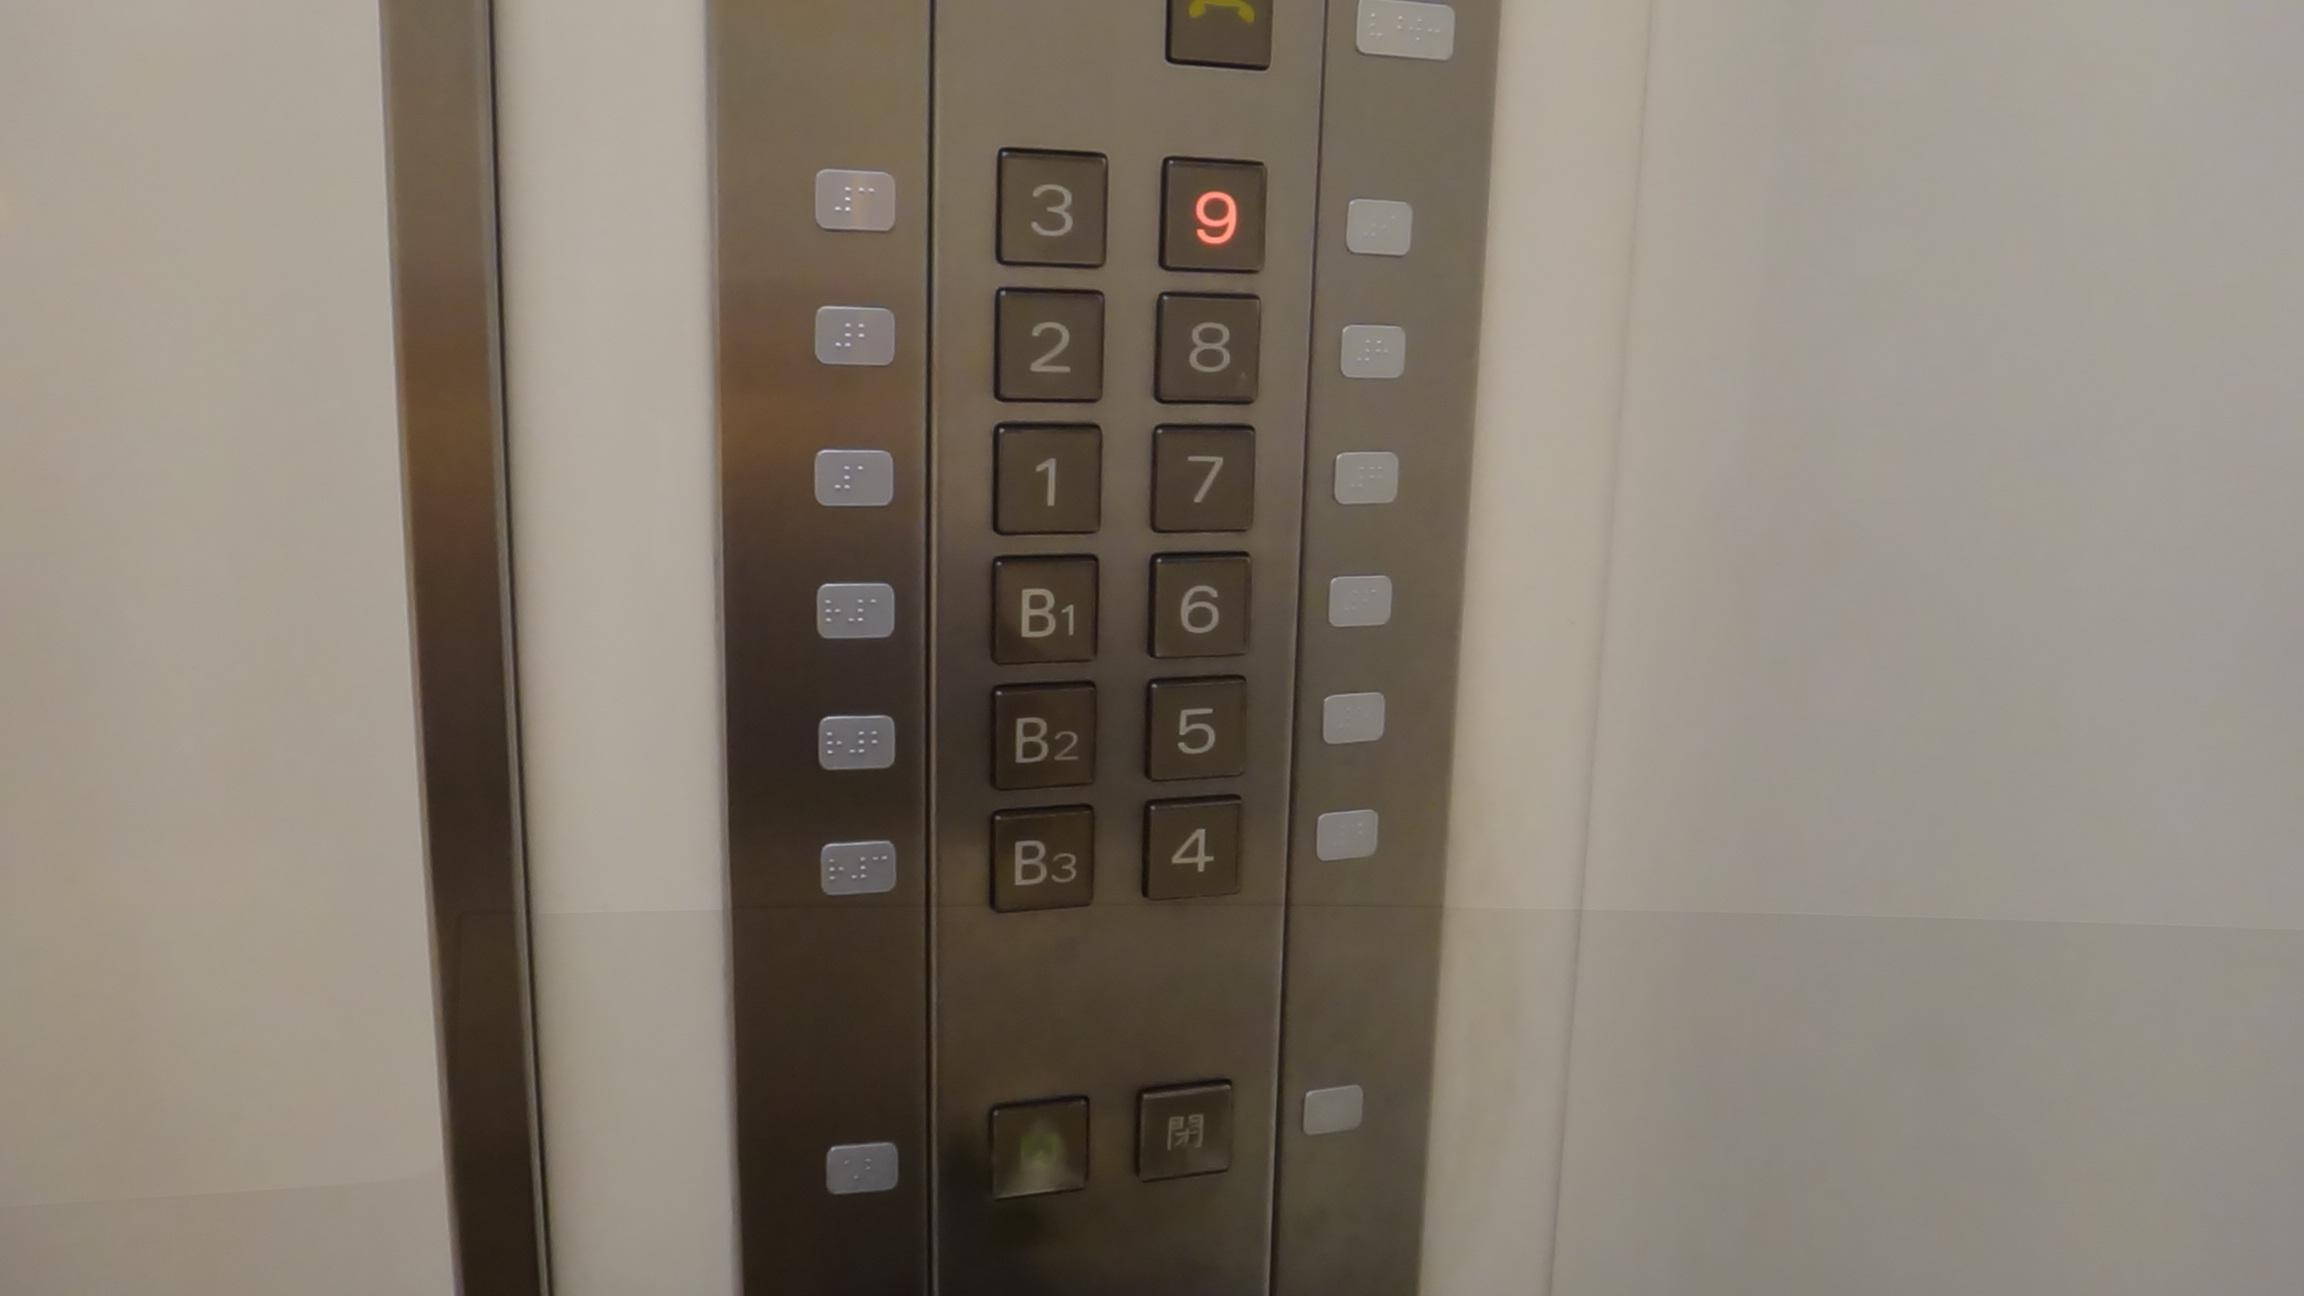1: (991, 418, 1105, 536)
2: (992, 283, 1108, 405)
3: (994, 146, 1114, 267)
4: (1139, 791, 1247, 902)
5: (1144, 671, 1252, 783)
6: (1147, 549, 1255, 658)
7: (1149, 419, 1260, 533)
8: (1152, 288, 1266, 405)
9: (1157, 153, 1272, 274)
B1: (989, 549, 1101, 665)
B2: (991, 676, 1100, 793)
B3: (987, 801, 1100, 916)
call: (1165, 2, 1275, 71)
stop: (991, 1097, 1089, 1198)
text: (1138, 1079, 1233, 1182)
